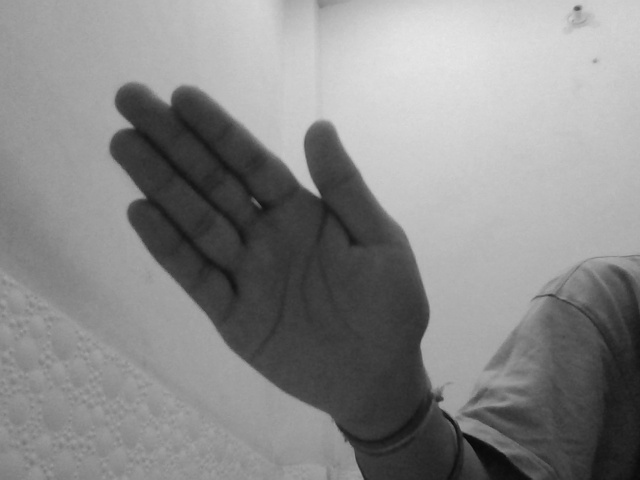Hello: (106, 78, 433, 420)
